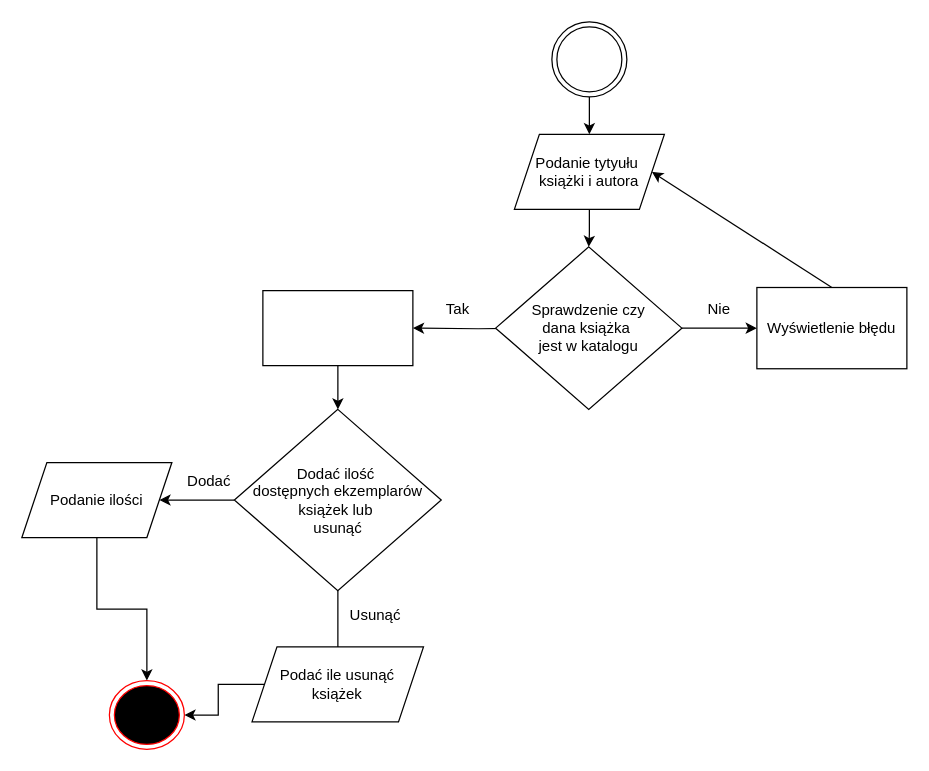
This 929x771 diagram has some shape labels left out. The shapes that lost their labels are listed below. From the top down, each one's centre as x and y in pixels, then its label:
At point 589,59: "Start".
At point 337,327: "Wyświetlenie książki".
At point 146,714: "Koniec".
